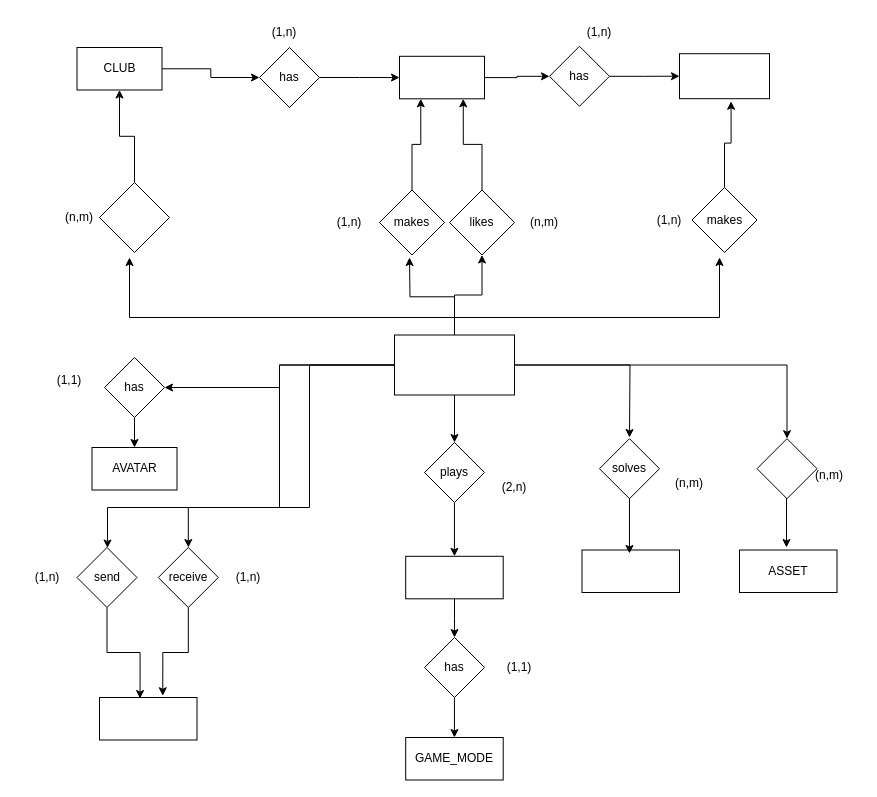
Some shapes in this 877 by 797 pixel diagram are drawn without their labels. Each missing label, with the centre of its shape:
"buys" goes at [786,468].
"COMMENT" goes at [724,76].
"GAME" goes at [454,577].
"is member" goes at [134,217].
"NOTIFICATION" goes at [147,718].
"POST" goes at [441,77].
"PUZZLE" goes at [630,570].
"USER" goes at [454,364].
